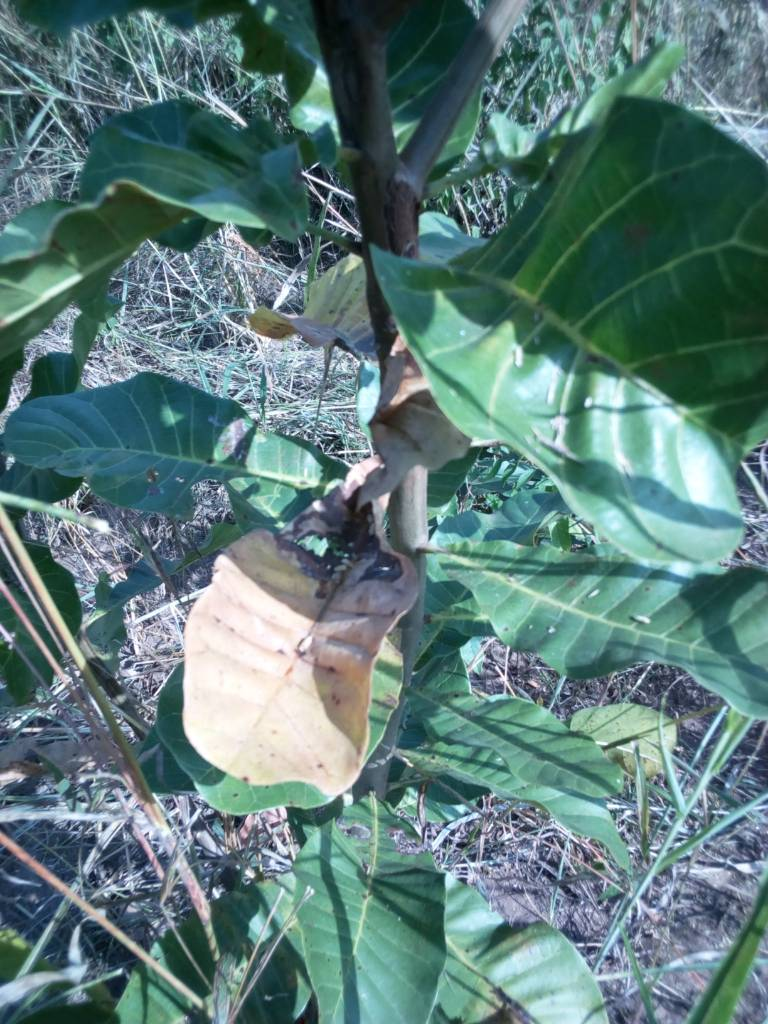Helopeltis anacardii: (390, 99, 768, 553), (1, 109, 360, 283), (15, 375, 333, 522)
